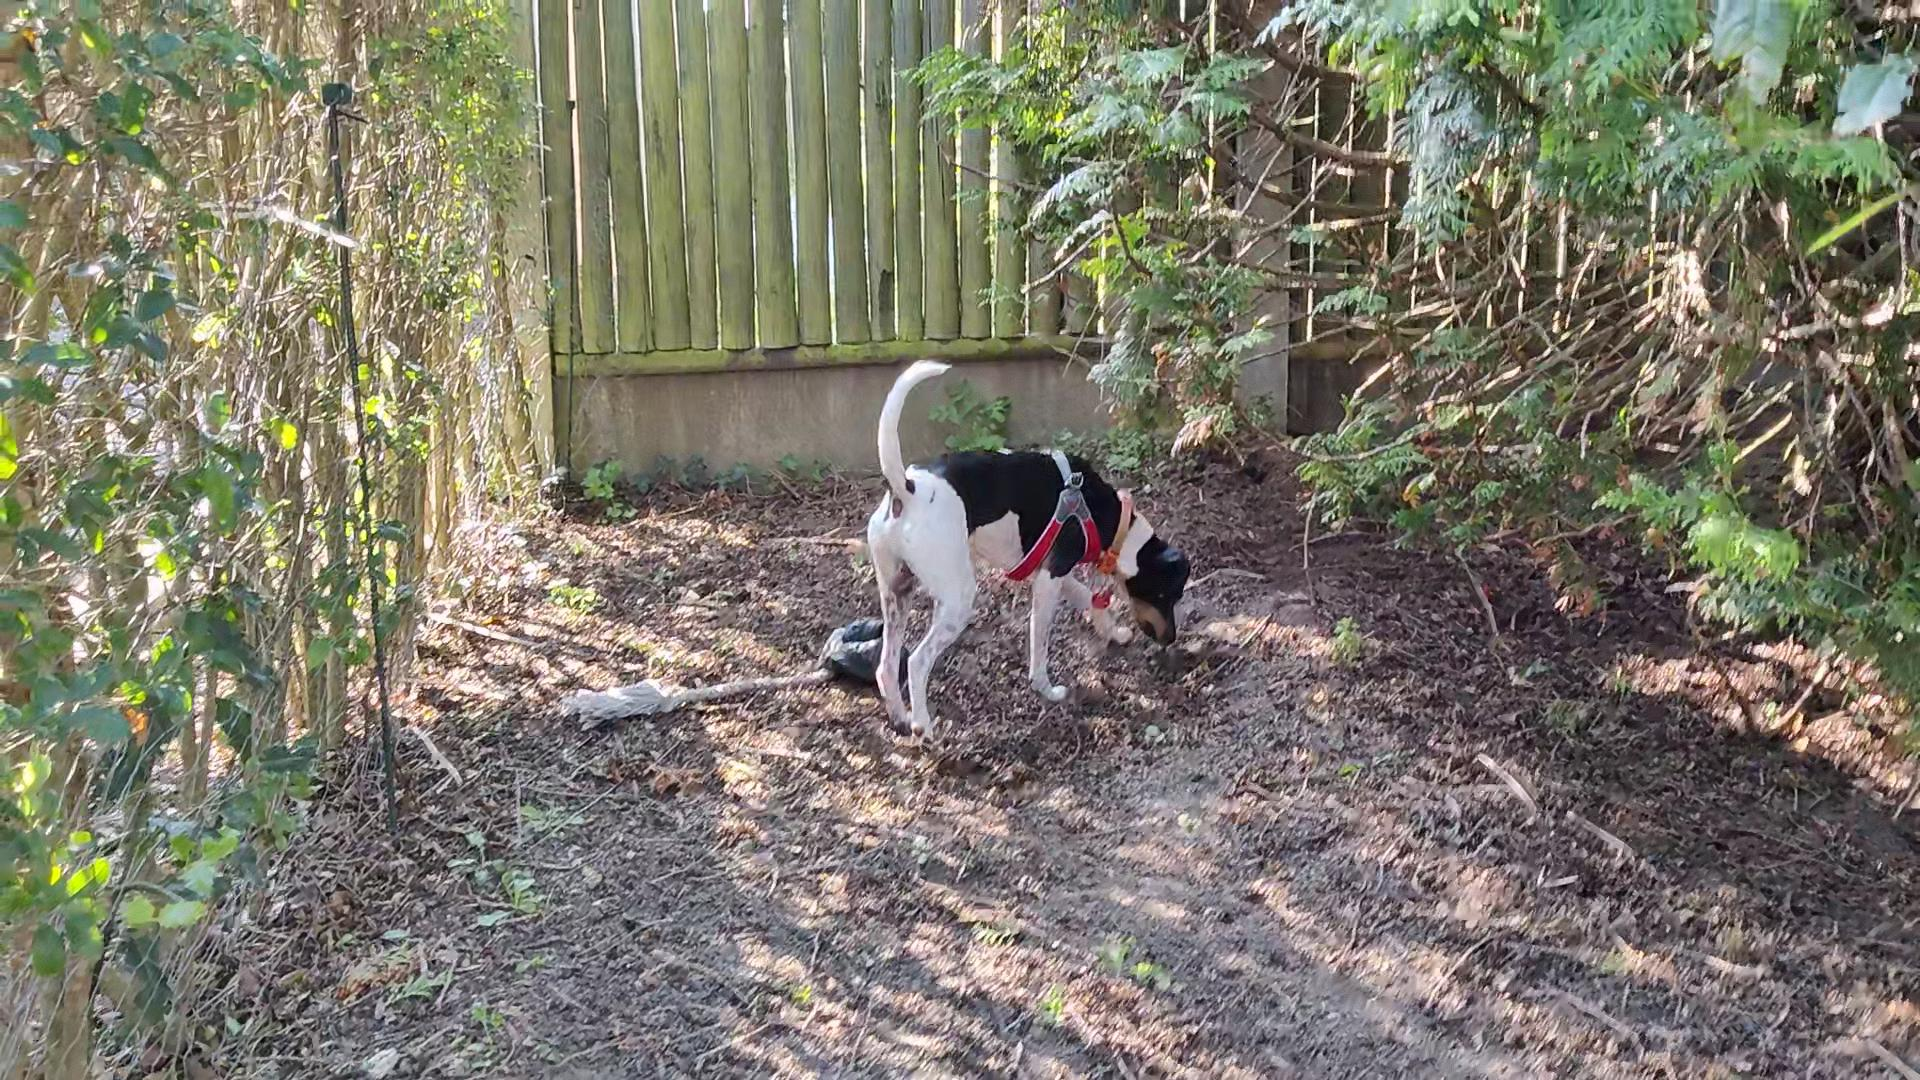Dog: (860, 339, 1199, 746)
